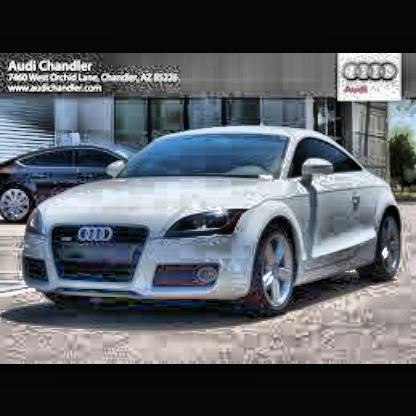Audi TT Hatchback 2011: (21, 130, 406, 324)
